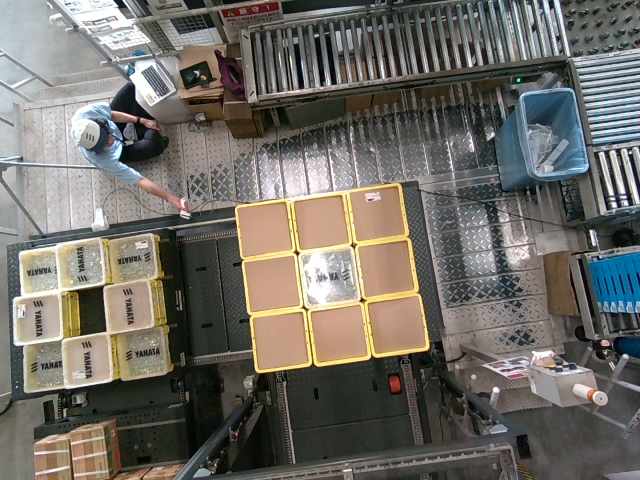box: (299, 249, 359, 309), (292, 194, 352, 254), (345, 181, 405, 241), (356, 238, 416, 298), (364, 295, 424, 355), (306, 305, 366, 365), (235, 204, 295, 256), (242, 261, 302, 313), (251, 316, 311, 368)
